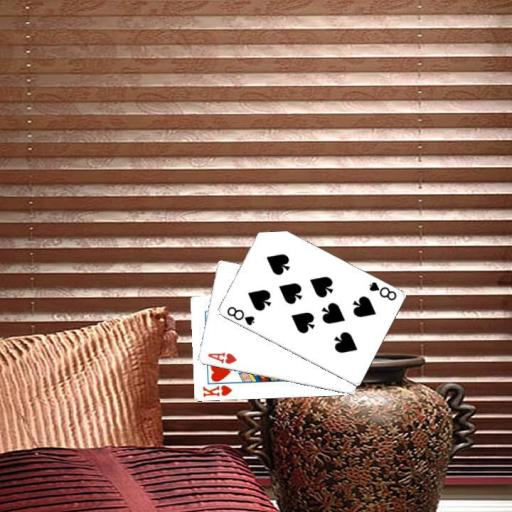8S: (223, 303, 256, 327), (366, 279, 398, 302)
AH: (204, 349, 238, 366)
KH: (200, 383, 233, 398)
